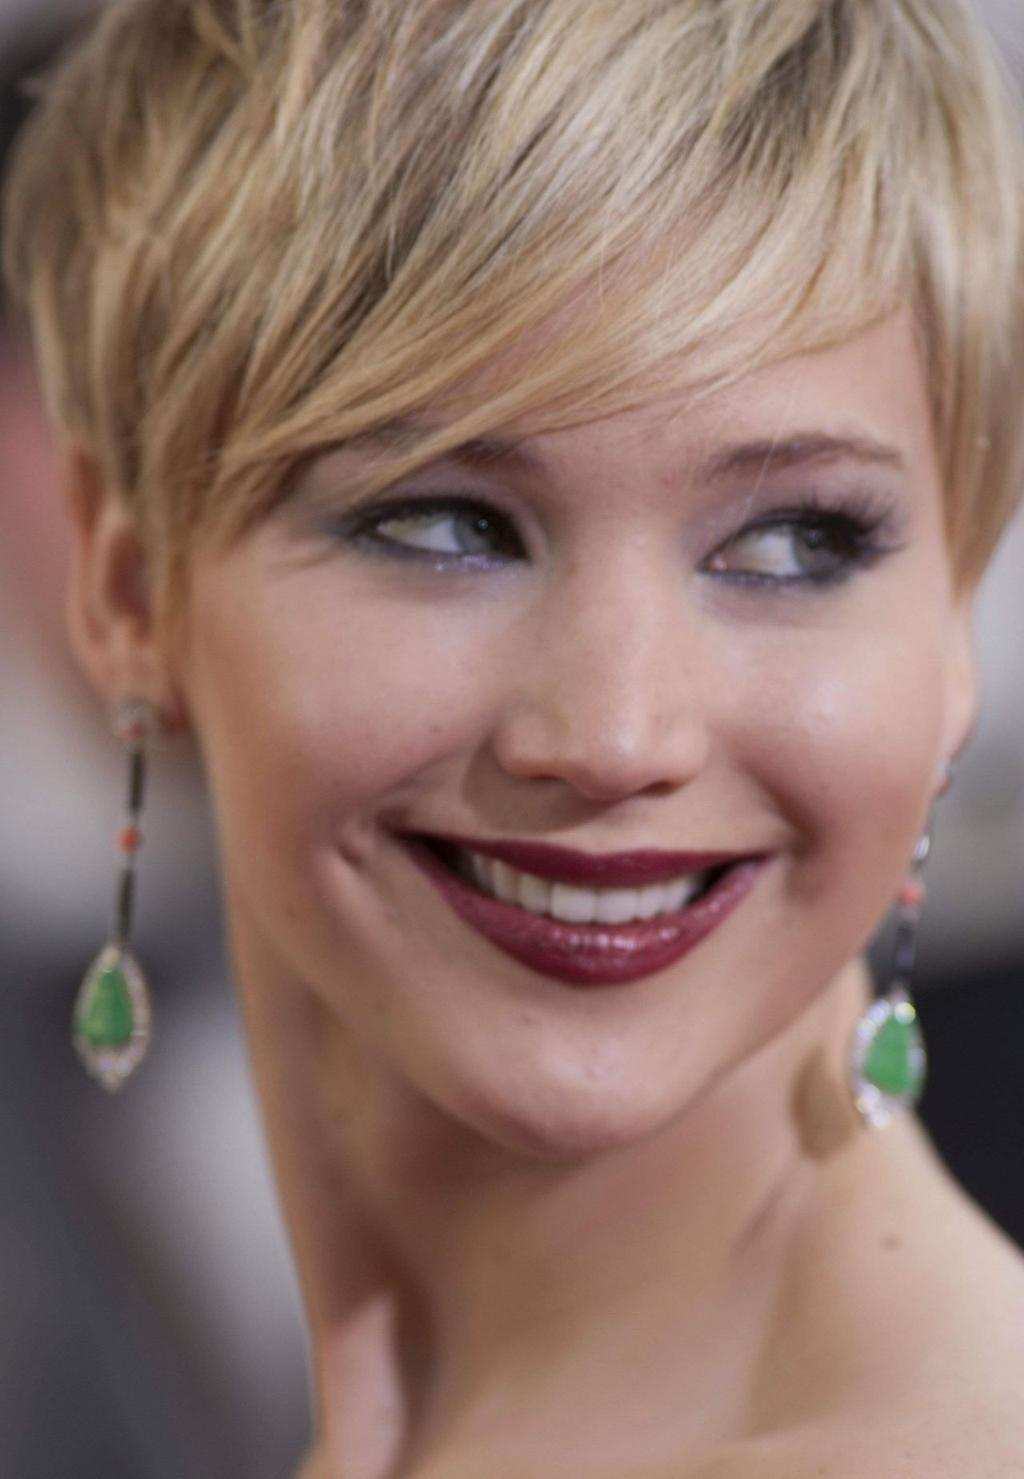face: (186, 67, 965, 1143)
